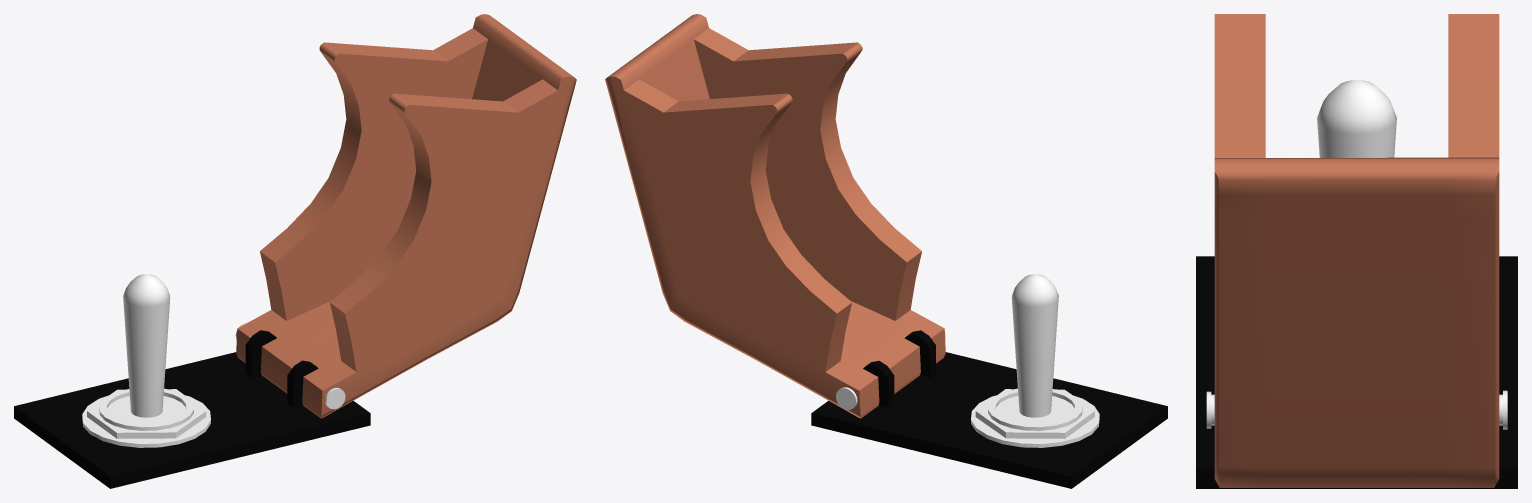
Rendered from Guarded_Switch_V1.fbx.
3 renders of one model, left to right at view 1: azimuth 30°, elevation 25°; view 2: azimuth 150°, elevation 25°; view 3: azimuth 270°, elevation 25°, orthographic. The views are drawn at different scales.
Visible parts, largest first — view 1: Guard, SwitchG_Base, Switch, Switch_Base; view 2: Guard, SwitchG_Base, Switch, Switch_Base; view 3: Guard, SwitchG_Base, Switch.
Part boxes in pixels (x1=…): Guard: x1=236, y1=14, x2=576, y2=418; SwitchG_Base: x1=14, y1=322, x2=370, y2=488; Switch: x1=123, y1=274, x2=170, y2=417; Switch_Base: x1=82, y1=388, x2=210, y2=447; Guard: x1=605, y1=14, x2=945, y2=418; SwitchG_Base: x1=811, y1=323, x2=1167, y2=488; Switch: x1=1011, y1=274, x2=1058, y2=417; Switch_Base: x1=971, y1=388, x2=1099, y2=447; Guard: x1=1214, y1=14, x2=1499, y2=487; SwitchG_Base: x1=1196, y1=256, x2=1517, y2=488; Switch: x1=1317, y1=80, x2=1396, y2=157.
Size of the model in its own units: 5.56 by 3.43 by 1.96.
